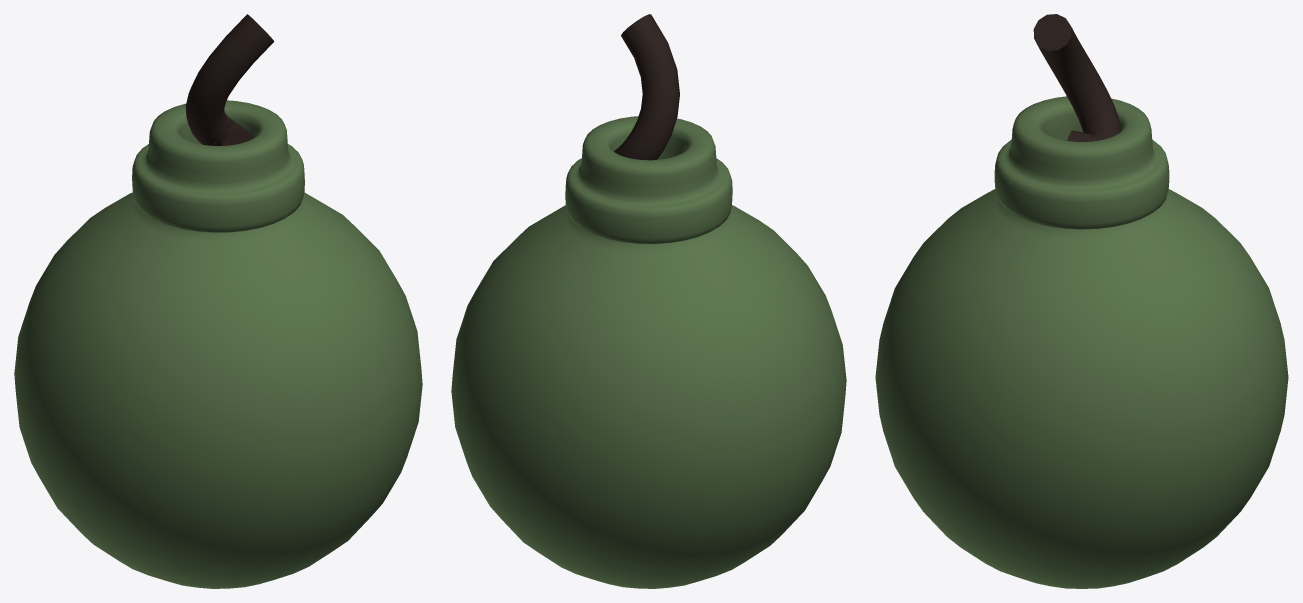
The model's file is Bomb.fbx.
3 renders of one model, left to right at view 1: azimuth 30°, elevation 25°; view 2: azimuth 150°, elevation 25°; view 3: azimuth 270°, elevation 25°, orthographic. The views are drawn at different scales.
Visible parts, largest first — view 1: Bomb, Lighter; view 2: Bomb, Lighter; view 3: Bomb, Lighter.
Part boxes in pixels (x1,y1,x2,y2): Bomb: [14, 100, 422, 588]; Lighter: [185, 14, 274, 145]; Bomb: [451, 116, 846, 588]; Lighter: [614, 14, 679, 160]; Bomb: [875, 96, 1288, 588]; Lighter: [1033, 14, 1121, 141].
Bounding box in the file's own units: 190 × 287 × 190.
